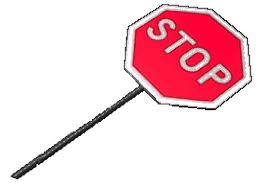stop sign: (123, 5, 252, 110)
